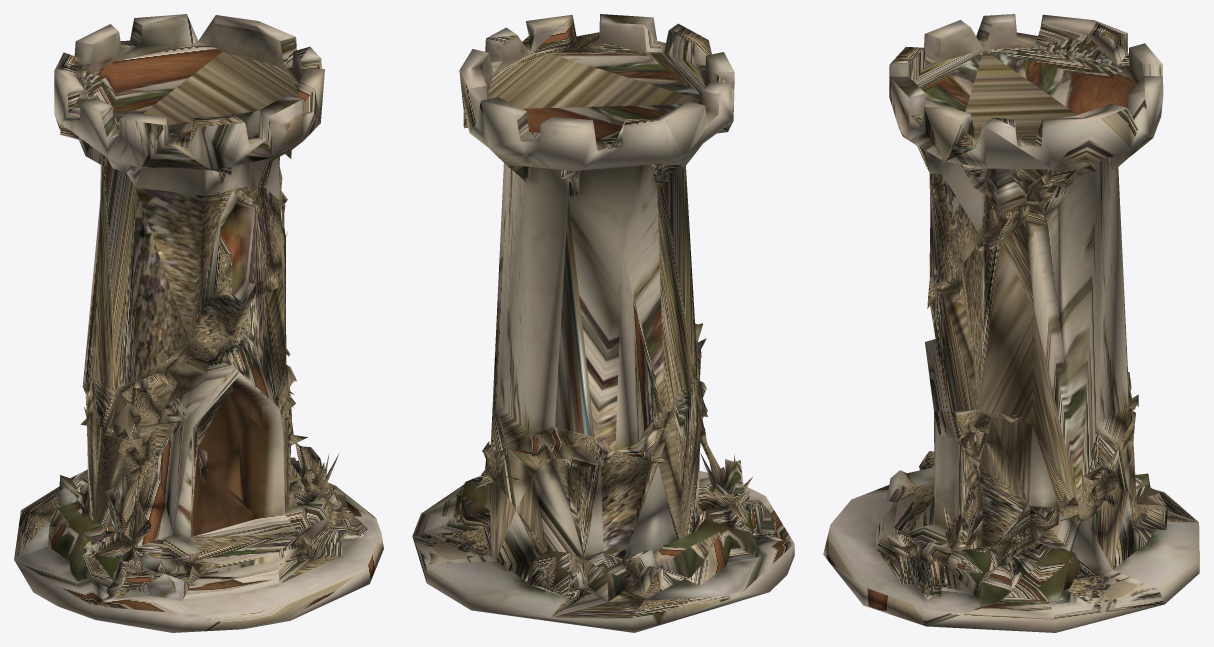
The model's file is Elven_tower_base_Circ.glb.
3 renders of one model, left to right at view 1: azimuth 30°, elevation 25°; view 2: azimuth 150°, elevation 25°; view 3: azimuth 270°, elevation 25°, orthographic.
Visible parts, largest first — view 1: Elven_tower_base_Circ; view 2: Elven_tower_base_Circ; view 3: Elven_tower_base_Circ.
Part boxes in pixels (bbox=[...]): Elven_tower_base_Circ: bbox=[14, 14, 383, 632]; Elven_tower_base_Circ: bbox=[412, 14, 794, 632]; Elven_tower_base_Circ: bbox=[823, 14, 1199, 632].
Bounding box in the file's own units: 1.34 × 1.9 × 1.34.
Materials: 1 (1 with a texture image).
